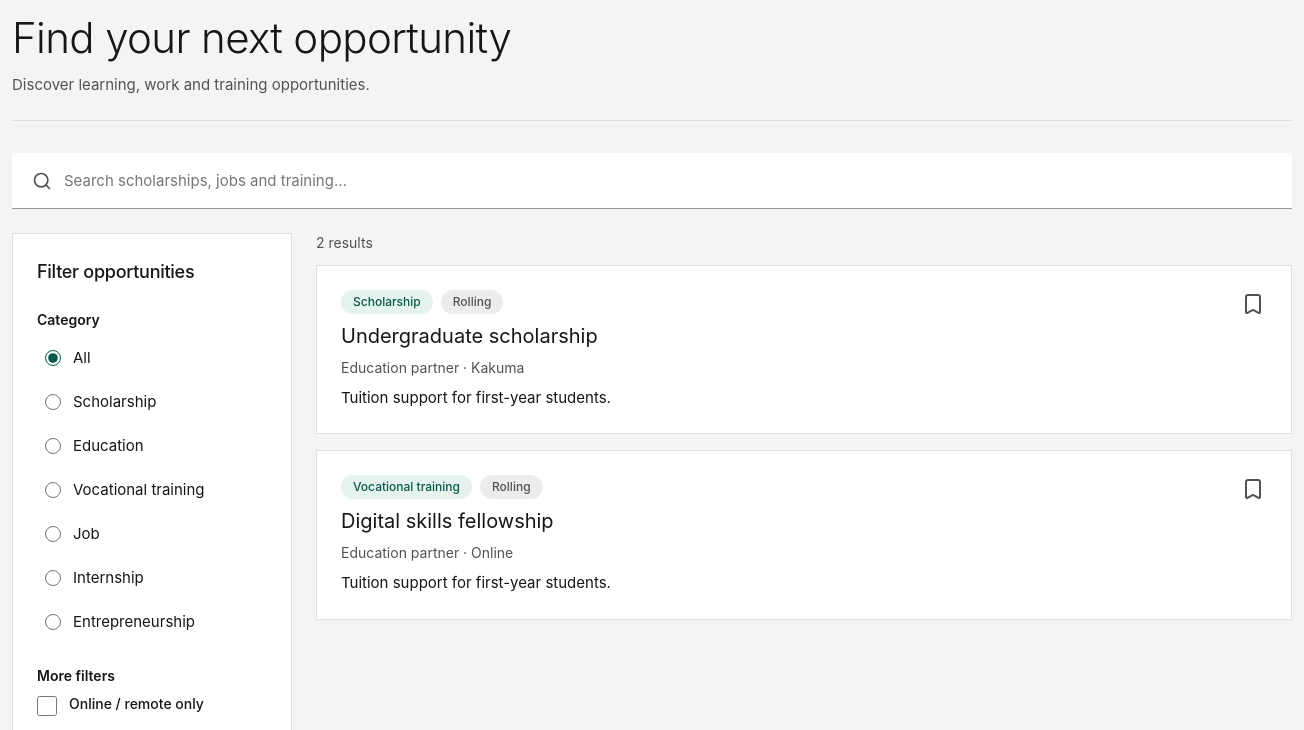
it: OpportunitiesPage › rolls the bookmark back when the server refuses it
Step 1. Click the 1st button named "Save opportunity" → x=1253, y=304, box [1231,282,1275,326]
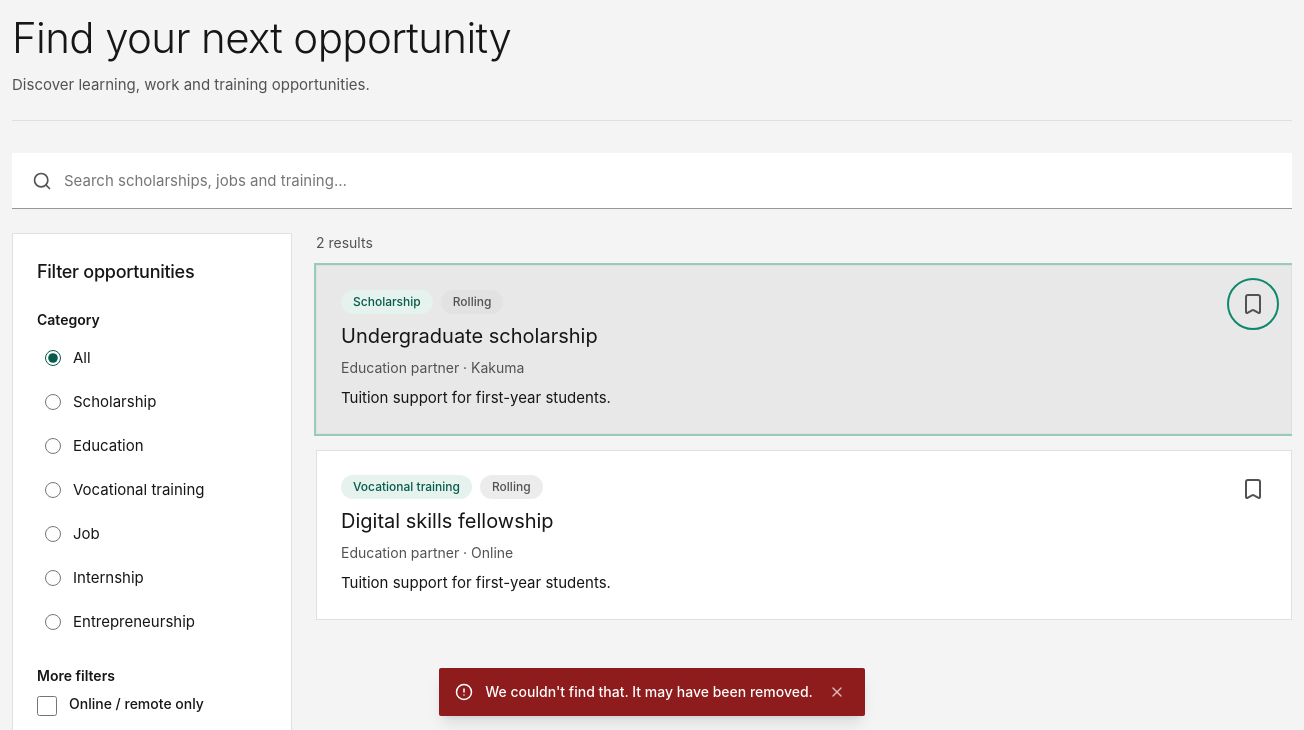
Expected: the text "We couldn't find that. It may have been removed." is shown, [485,682,813,702]
